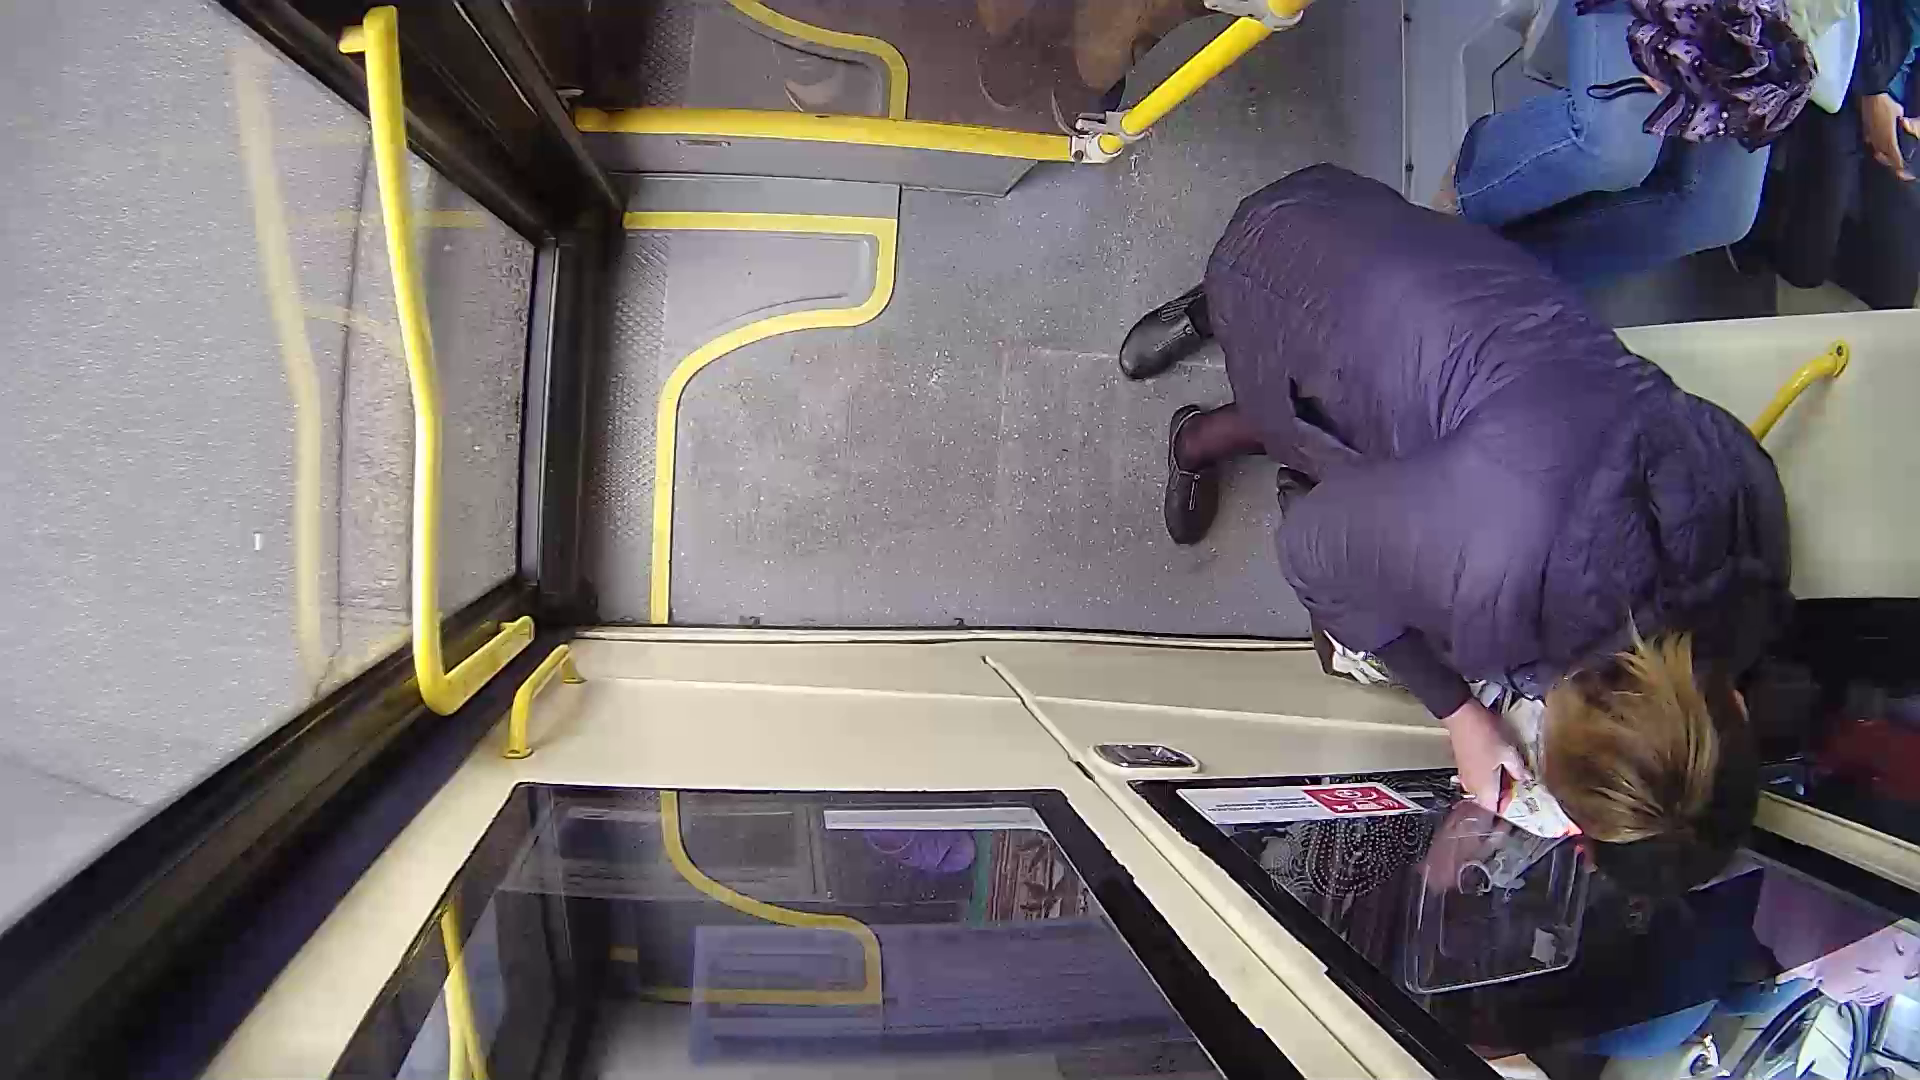person: (1100, 170, 1884, 896)
